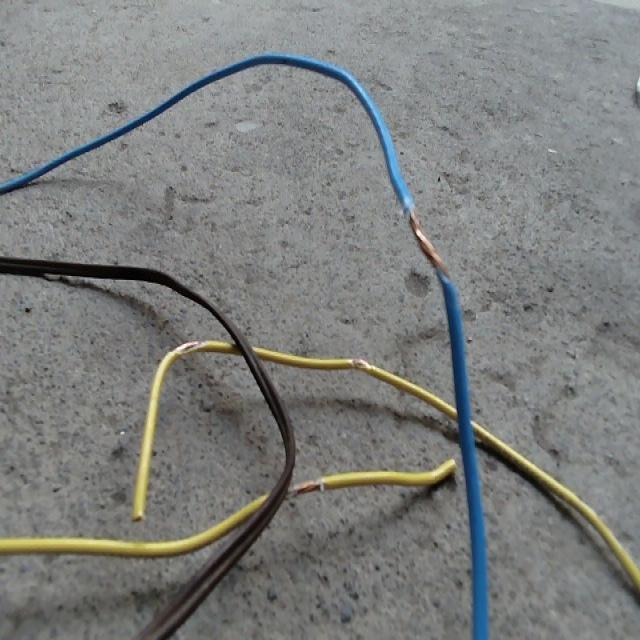-: (405, 207, 456, 281), (283, 478, 322, 498), (170, 337, 202, 355), (351, 354, 370, 374)
